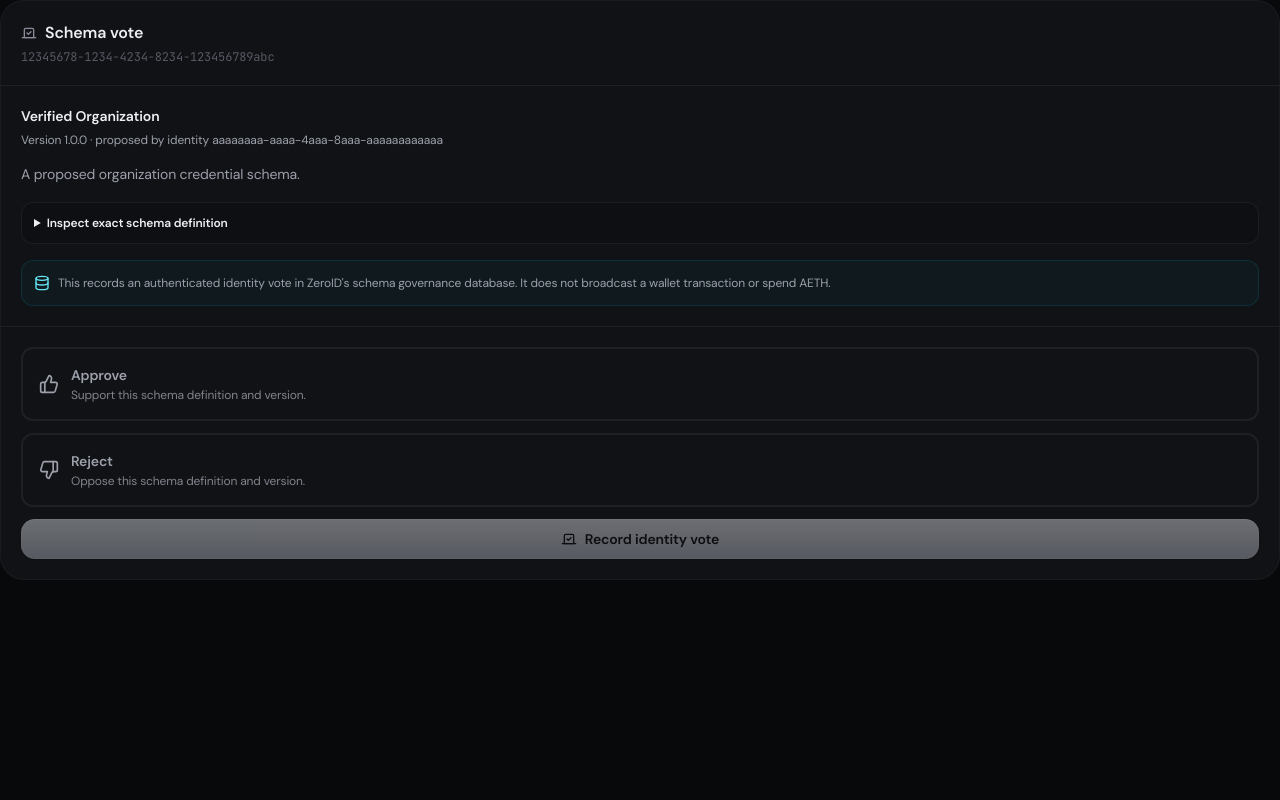
Test case: VotingPanel › records an approve vote with the backend UUID
Click the button "Approve Support this schema definition and version.". click: coordinates (99, 375)
box: x1=21 y1=347 x2=1259 y2=421
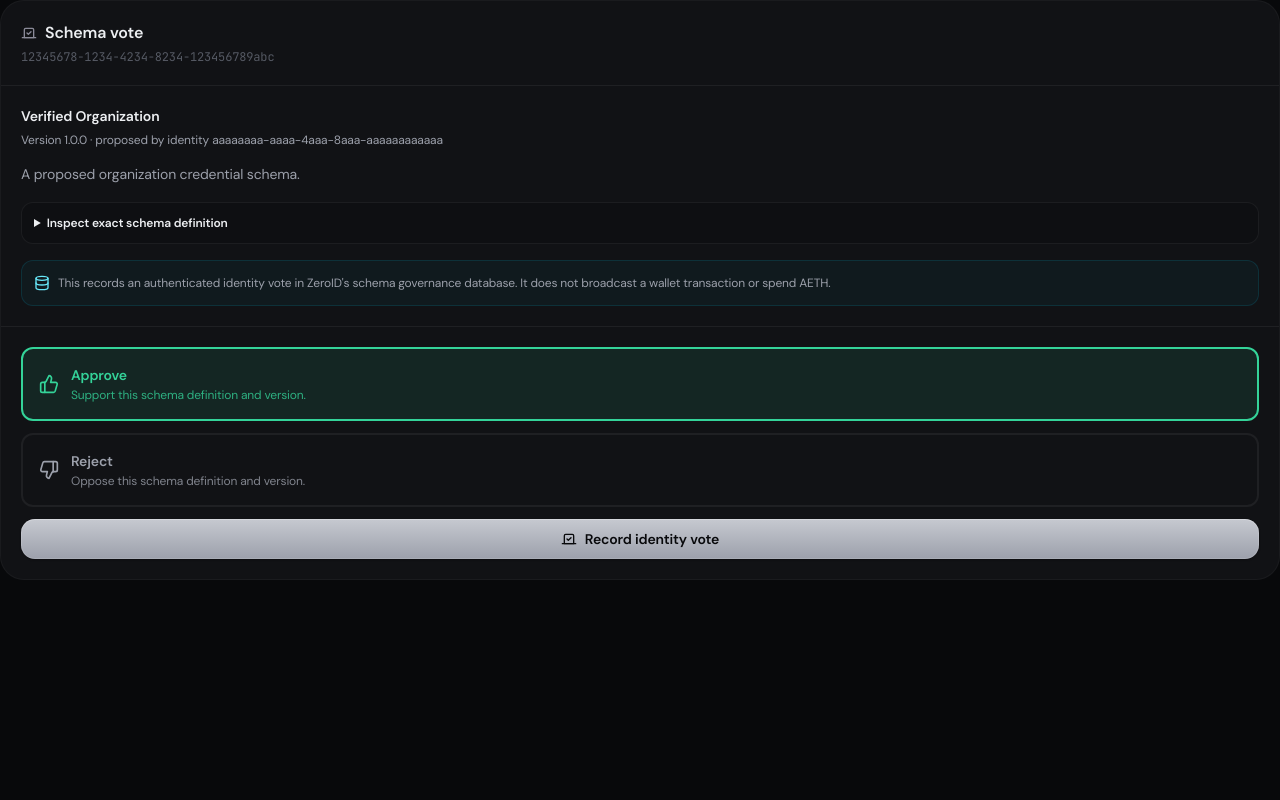
Click the button "Record identity vote". click: coordinates (640, 539)
box: x1=21 y1=519 x2=1259 y2=559
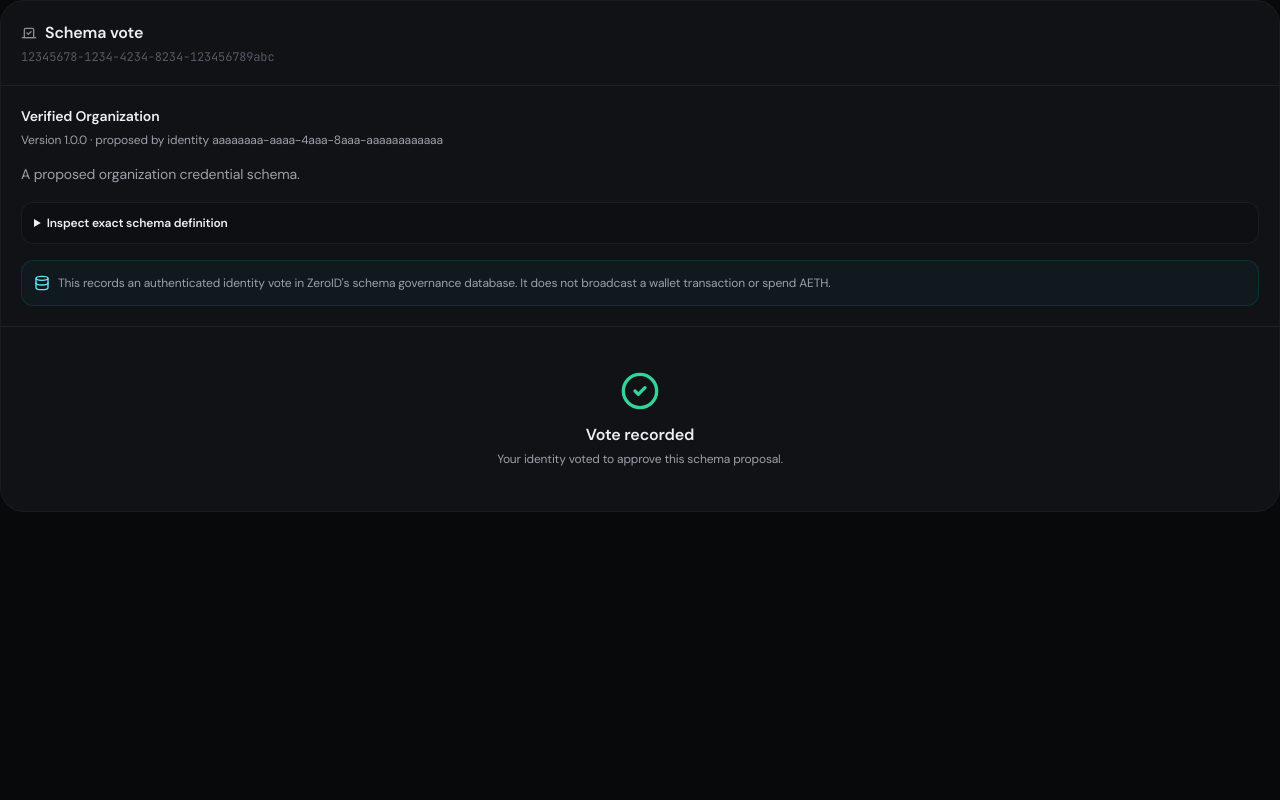
Check: the text "Vote recorded" is shown, box x1=586 y1=424 x2=694 y2=445
